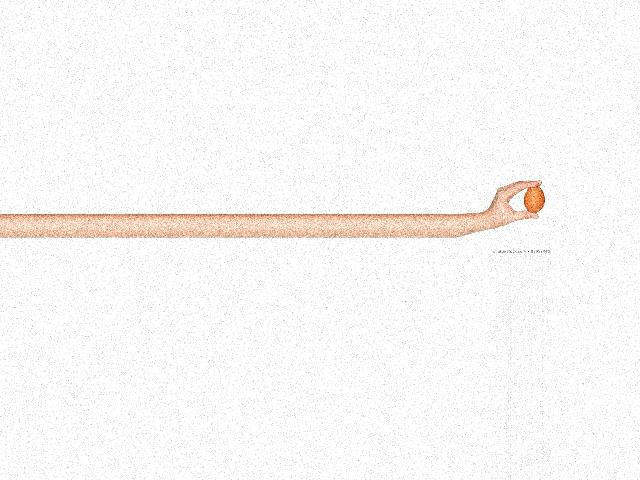egg: (524, 185, 545, 213)
